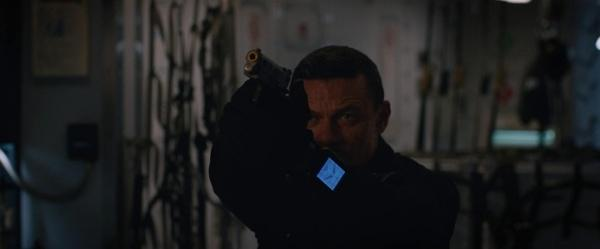Gun: (242, 48, 289, 99)
